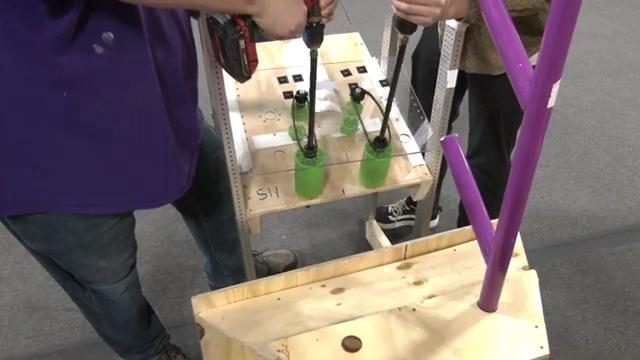CORAL: (283, 41, 341, 135)
